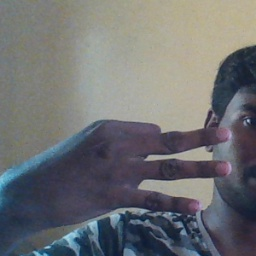K: (23, 116, 232, 228)
